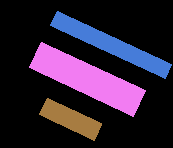parkingspot: (50, 11, 171, 78), (29, 54, 139, 116), (35, 42, 145, 103), (39, 98, 101, 140)
